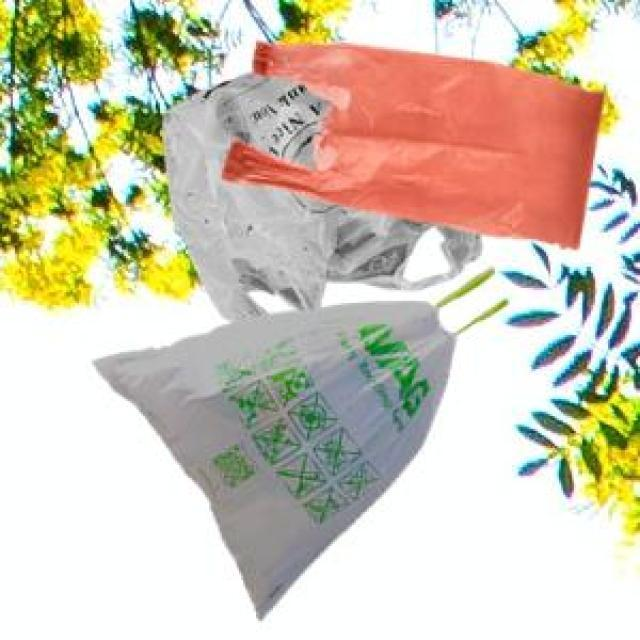waste: (164, 44, 601, 321), (98, 305, 454, 616)
